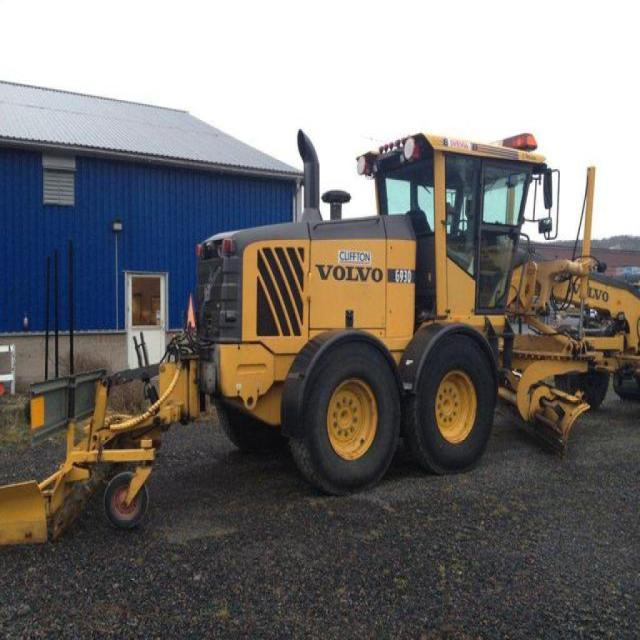buldozerpayloadergrader: (177, 77, 639, 499)
